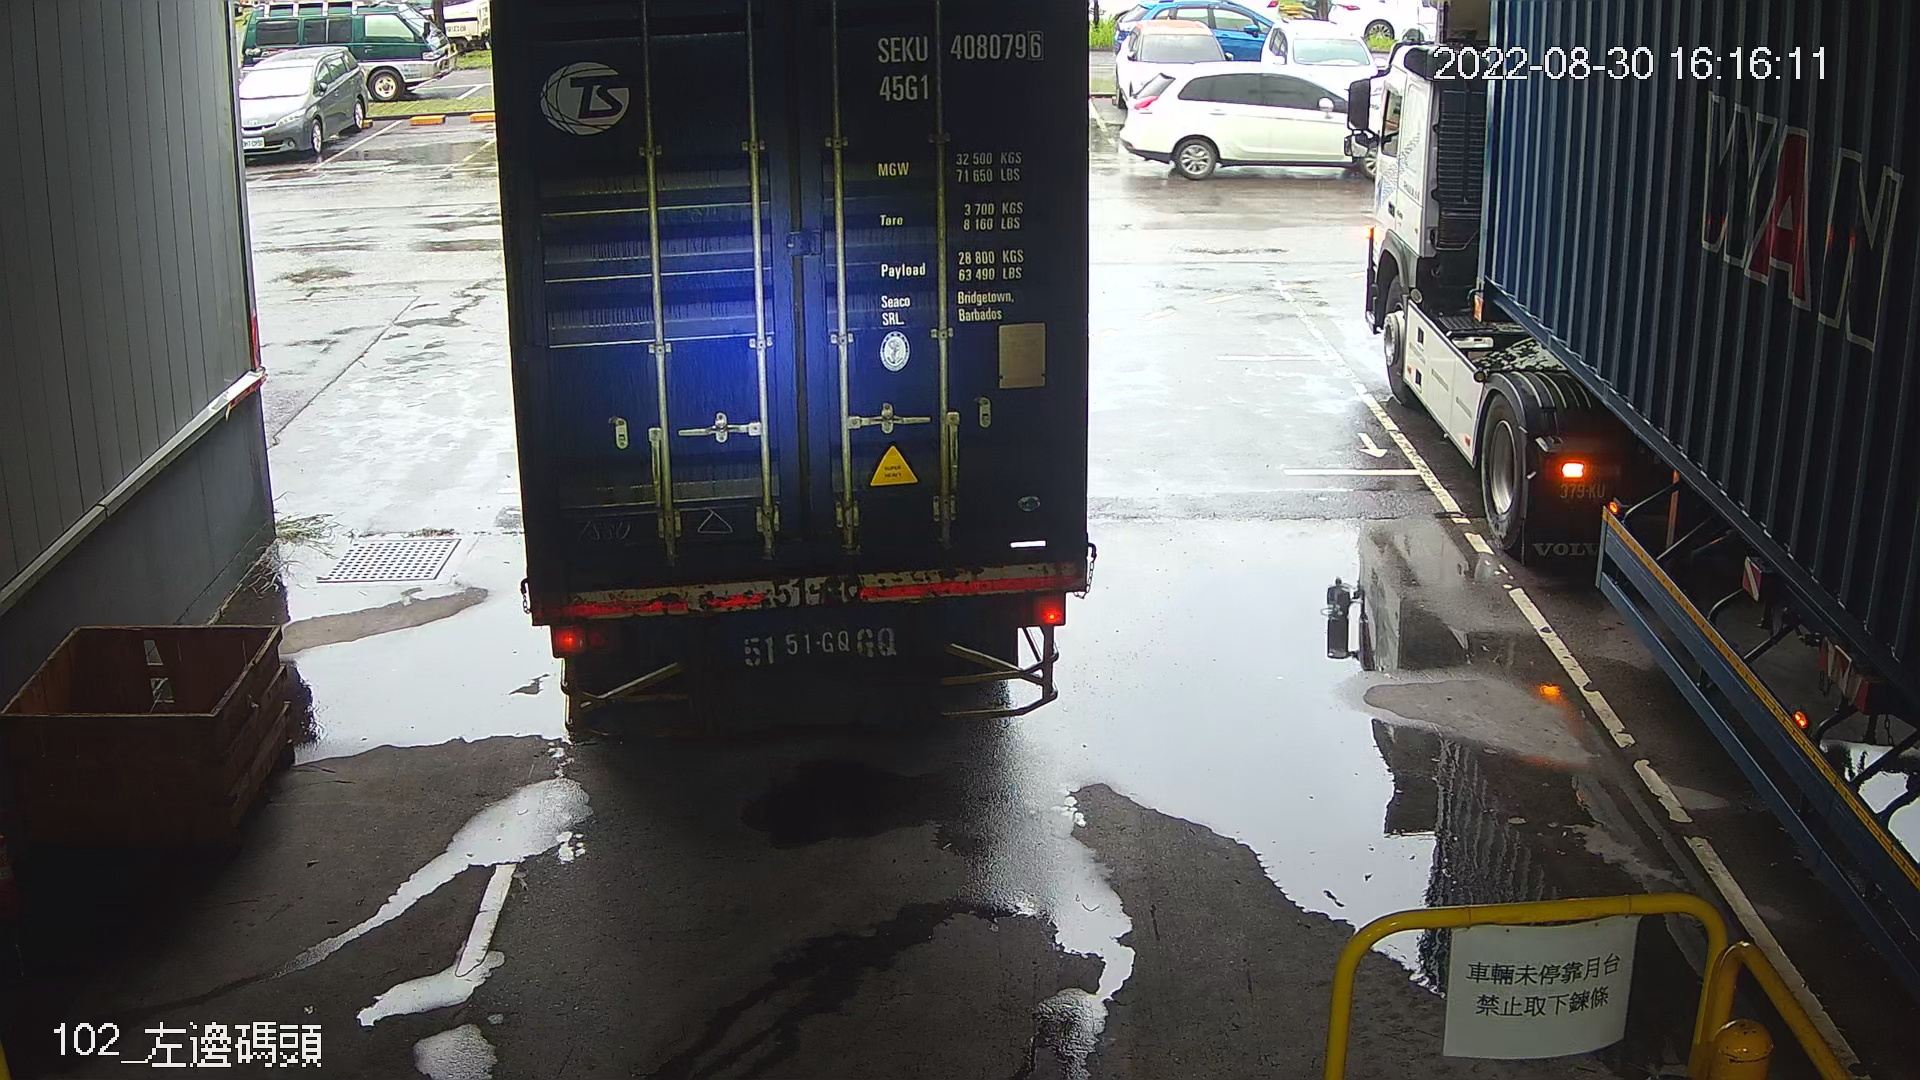container: (862, 22, 1058, 109)
